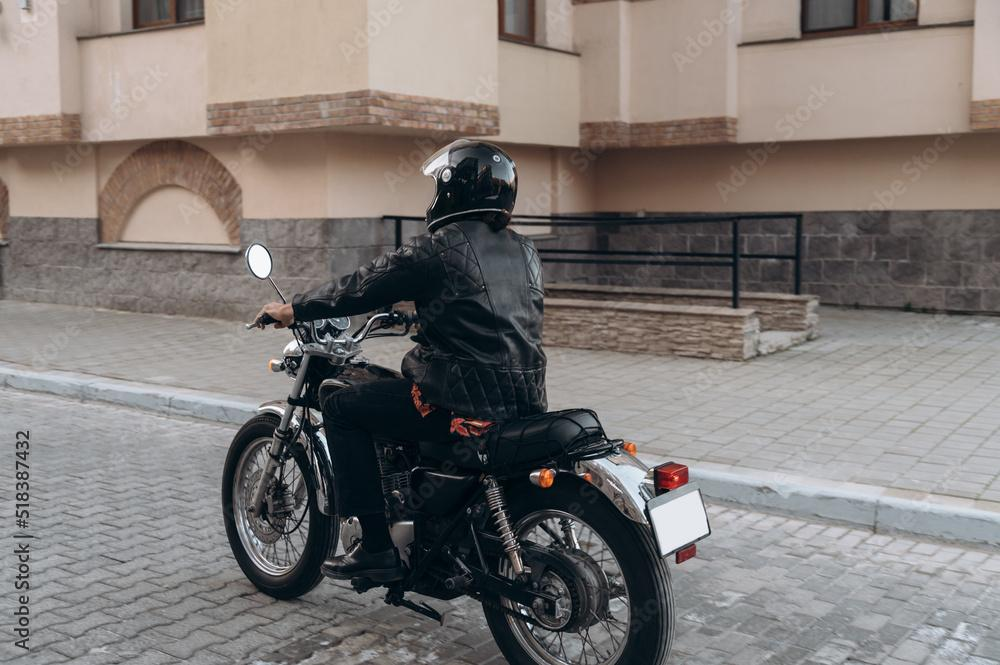helmet: (419, 137, 519, 235)
